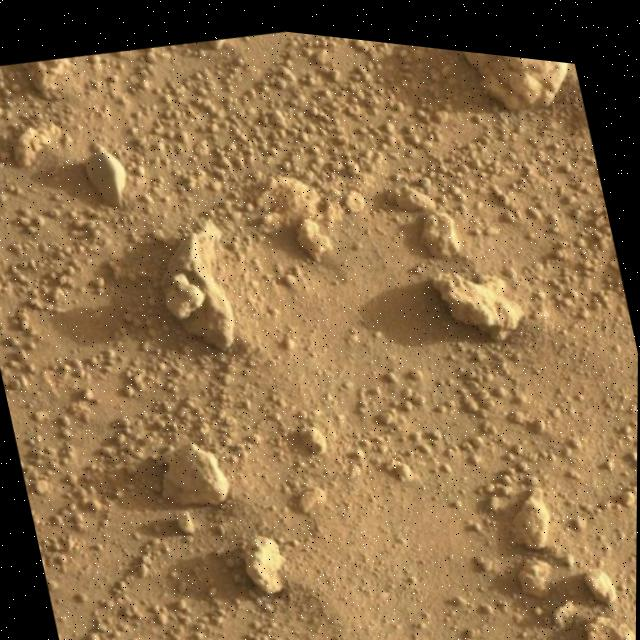mars-rocks: (161, 216, 234, 345), (433, 262, 524, 328), (466, 41, 567, 97), (163, 438, 230, 502)
